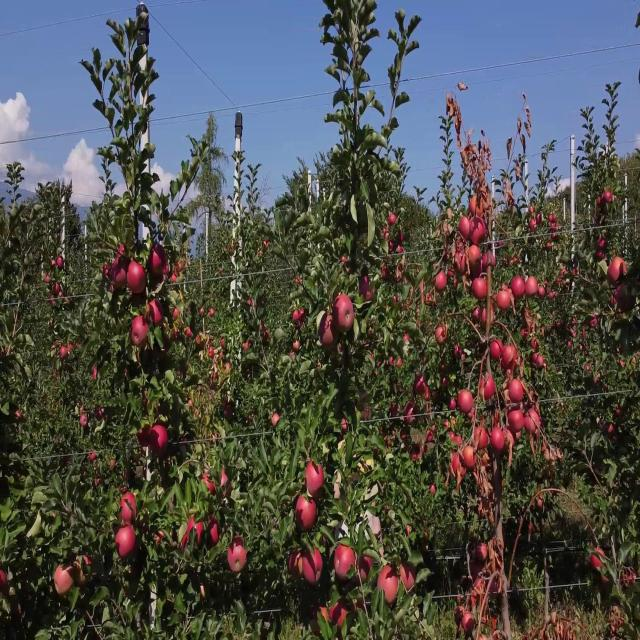apple: (332, 298, 356, 332), (304, 547, 324, 585), (228, 540, 248, 576), (380, 568, 400, 604), (296, 497, 316, 532), (116, 526, 136, 560), (336, 547, 356, 578), (148, 248, 168, 279), (320, 312, 336, 348), (128, 263, 147, 293), (308, 462, 324, 496), (76, 554, 92, 587), (152, 241, 167, 276), (56, 568, 73, 597), (132, 319, 148, 348), (152, 426, 168, 455), (400, 561, 416, 590), (148, 298, 163, 327), (120, 497, 136, 524), (188, 519, 204, 546), (288, 554, 304, 580), (360, 554, 373, 583), (468, 248, 481, 277), (360, 277, 376, 300), (472, 220, 487, 244), (112, 270, 128, 292), (312, 611, 328, 633), (332, 604, 348, 626), (220, 469, 232, 498), (80, 554, 92, 583), (188, 519, 204, 540), (484, 376, 496, 400), (336, 604, 348, 628), (456, 248, 468, 272), (504, 348, 517, 370), (460, 391, 473, 412), (492, 341, 504, 363), (512, 277, 524, 299), (436, 270, 448, 292), (512, 383, 524, 405), (140, 426, 151, 448), (500, 291, 511, 313), (420, 533, 431, 555), (372, 519, 384, 539), (212, 519, 220, 548), (460, 220, 471, 240), (204, 476, 216, 494), (196, 519, 204, 546), (472, 199, 484, 217), (484, 255, 496, 272), (180, 533, 189, 555), (292, 312, 307, 325), (436, 327, 448, 343), (104, 263, 115, 279), (0, 575, 8, 596), (536, 355, 547, 370), (612, 263, 620, 283), (96, 412, 109, 423), (156, 533, 165, 548), (604, 191, 612, 206), (80, 412, 88, 427), (444, 220, 451, 236), (16, 604, 23, 619), (120, 241, 126, 258), (600, 248, 606, 261), (344, 419, 348, 434), (600, 241, 607, 249), (16, 412, 23, 420), (596, 199, 603, 206)
